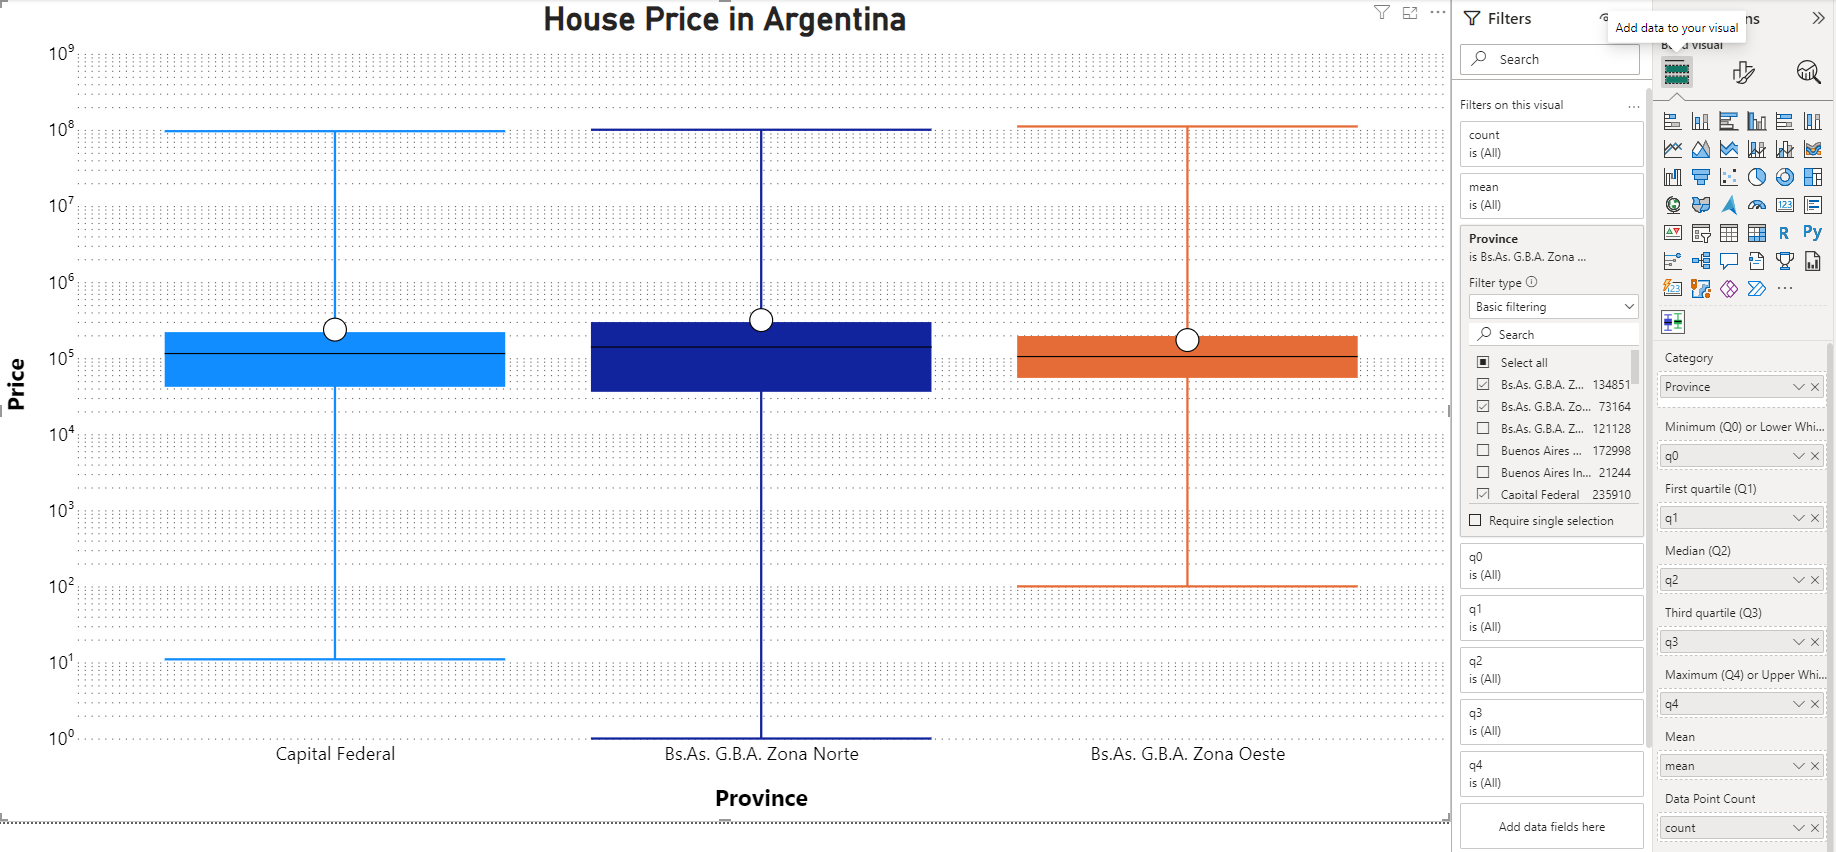

The page's visual inventory and layout, read from the dashboard file:
{"tool":"powerbi","page":{"name":"BoxPlot using measure","canvas":[1280,720],"ordinal":1},"visuals":[{"type":"boxPlot2BA04471CB03248D6AEA32C945A851F52","title":"House Price in Argentina","fields":{"category":["ar_properties.l2"],"min":["ar_properties.q0"],"q1":["ar_properties.q1"],"median":["ar_properties.q2"],"q3":["ar_properties.q3"],"max":["ar_properties.q4"],"mean":["ar_properties.mean"],"datapointcount":["ar_properties.count"]},"box":[9.7,0,1270.3,720.2],"z":0}]}

Visuals, with their boxes on the page's 1280x720 design canvas (x1, y1, x2, y2). These are canvas units, not pixel positions in the 1836x852 screenshot, which may show the page scaled, cropped or inside an application window:
"House Price in Argentina" boxPlot2BA04471CB03248D6AEA32C945A851F52: [10, 0, 1280, 720]
